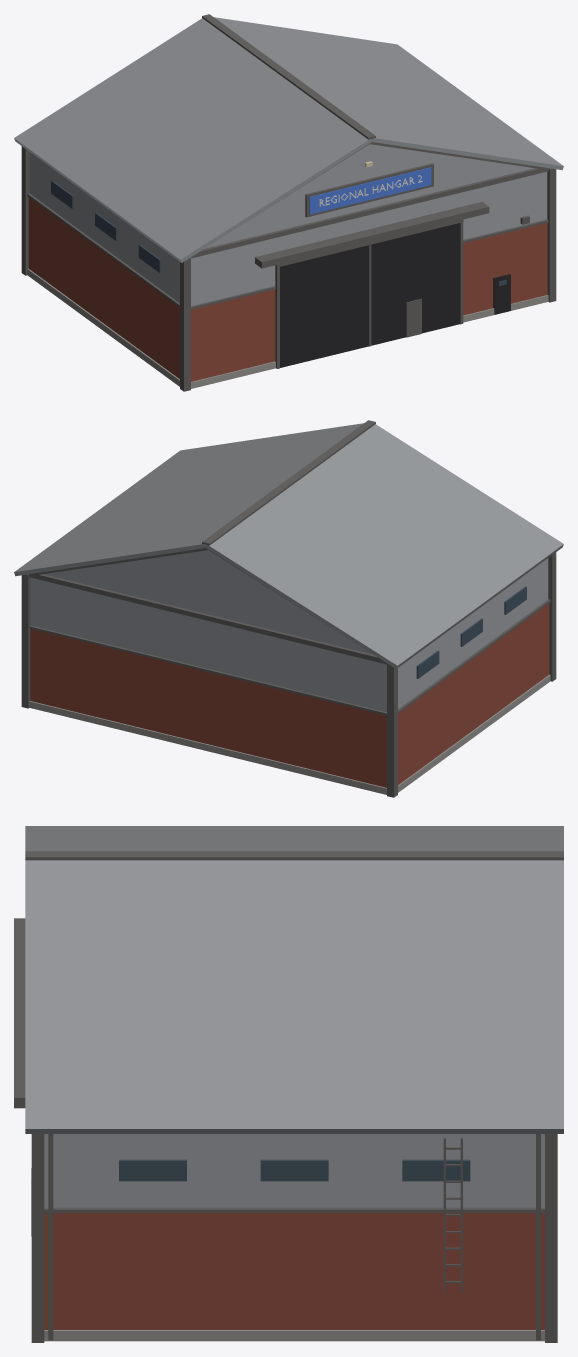
Rendered from hangar_regional.glb.
3 views of the same model, one above another, from view 1: azimuth 30°, elevation 25°; view 2: azimuth 150°, elevation 25°; view 3: azimuth 270°, elevation 25° (orthographic). The views are drawn at different scales.
Visible parts, largest first — view 1: hangar_regional; view 2: hangar_regional; view 3: hangar_regional.
Part boxes in pixels (left/top/right/bottom): hangar_regional: left=14, top=14, right=563, bottom=391; hangar_regional: left=14, top=420, right=563, bottom=797; hangar_regional: left=14, top=826, right=563, bottom=1342.
Size of the model in its own units: 25.29 by 13.29 by 19.4.
